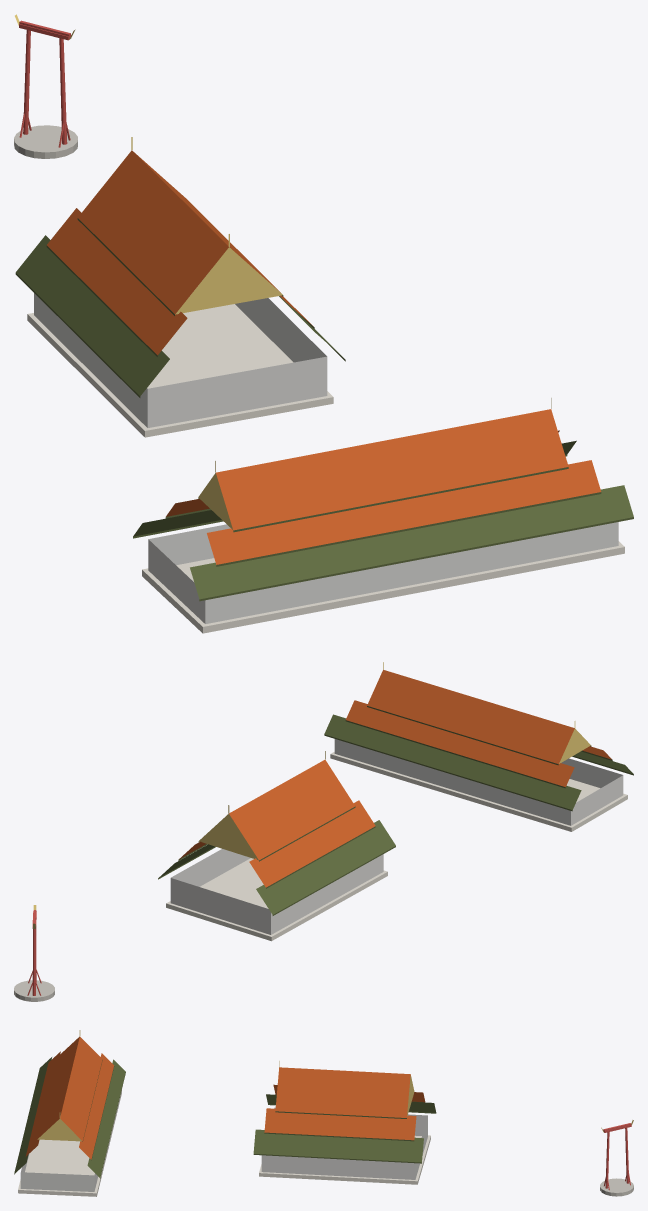
Rendered from giantswing.glb.
3 renders of one model, top to bottom at view 1: azimuth 30°, elevation 25°; view 2: azimuth 150°, elevation 25°; view 3: azimuth 270°, elevation 25°, orthographic. The views are drawn at different scales.
Visible parts, largest first — view 1: giantswing; view 2: giantswing; view 3: giantswing.
Boxes of the visible parts, <box> form: giantswing: <box>14,14,633,633</box>; giantswing: <box>14,662,633,1001</box>; giantswing: <box>14,1030,633,1196</box>.
Size of the model in its own units: 79.78 by 31.73 by 190.
